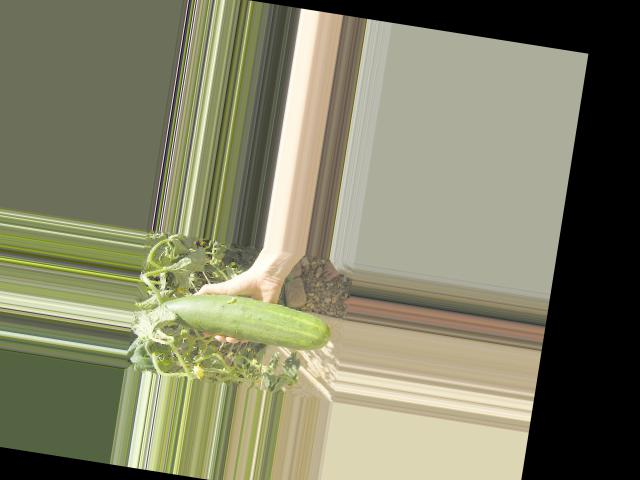cucumber: (155, 284, 334, 354)
